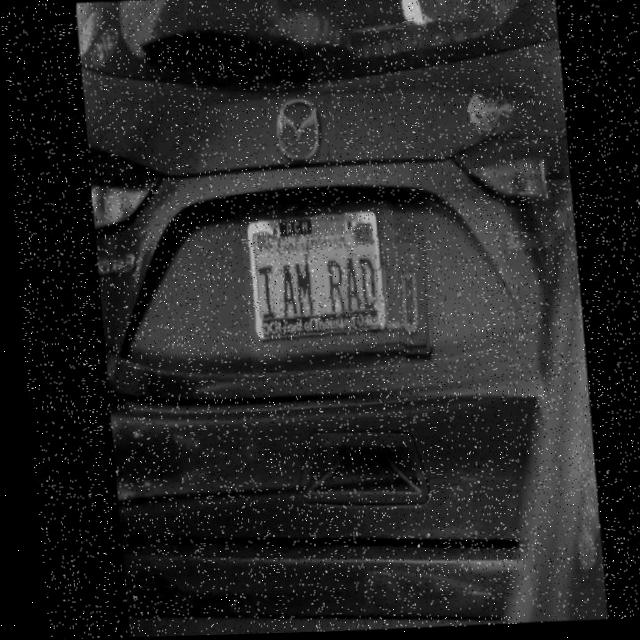LicensePlate: (235, 201, 400, 374)
